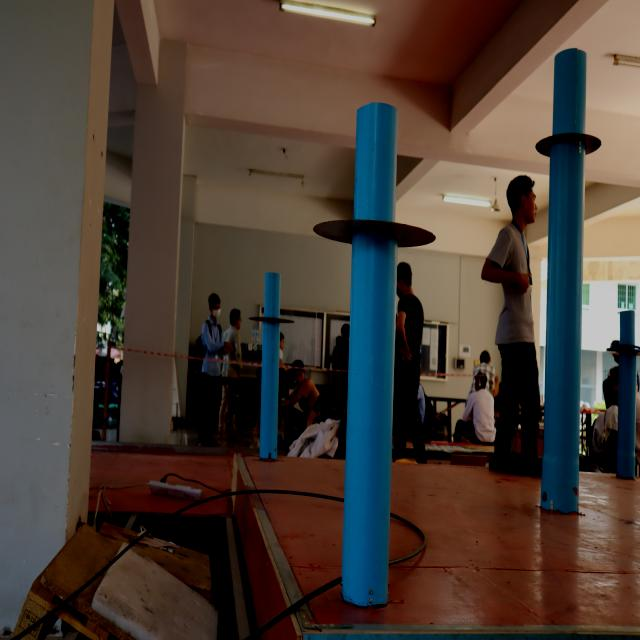pole: (307, 102, 439, 324), (530, 42, 606, 225), (238, 270, 298, 364), (610, 305, 640, 407)
